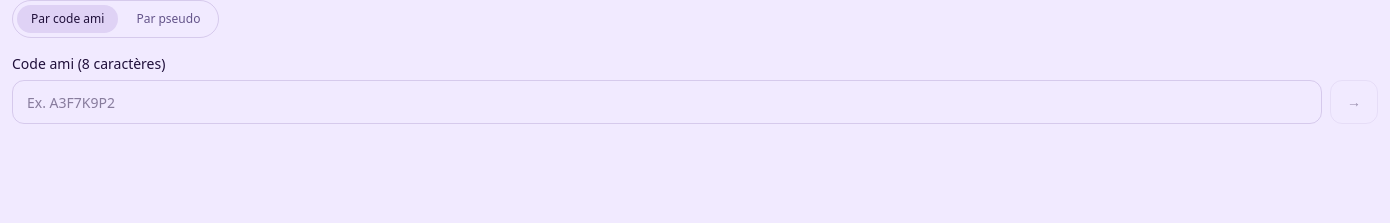
Test case: AddFriendForm — ajout par code ou pseudo exact, avec aperçu avant envoi (LOT F1) › recherche par code par défaut : envoie {code} au clic sur la recherche
The image size is (1390, 223).
Type "A3F7K9P2" into the field labelled "Code ami (8 caractères)" at (667, 102), box 12,80 -> 1322,124
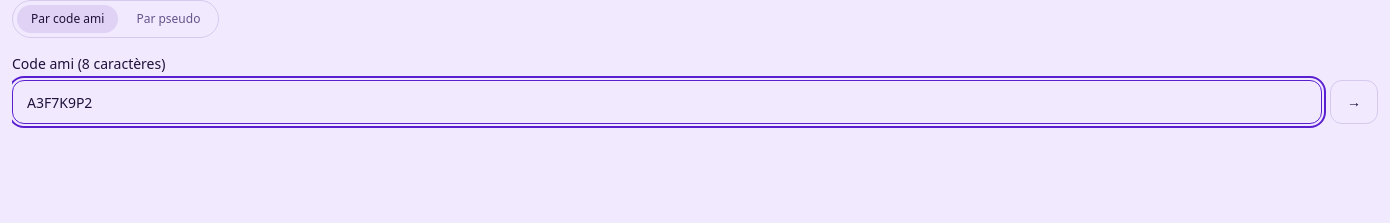
Click the button "→" at (1354, 102), box 1330,80 -> 1378,124
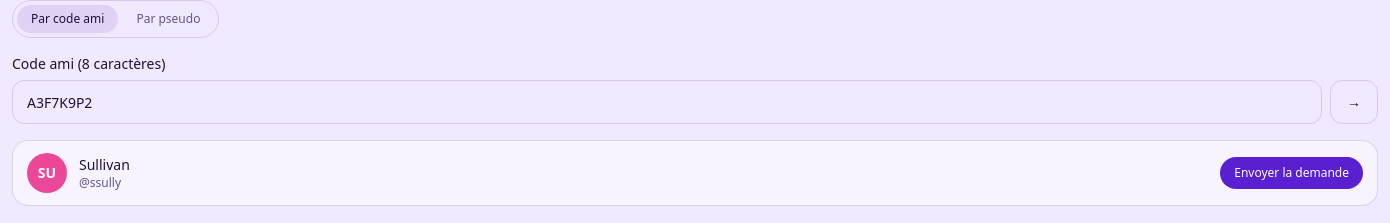
Now the text "Sullivan" is shown, box 79,155 -> 130,174
